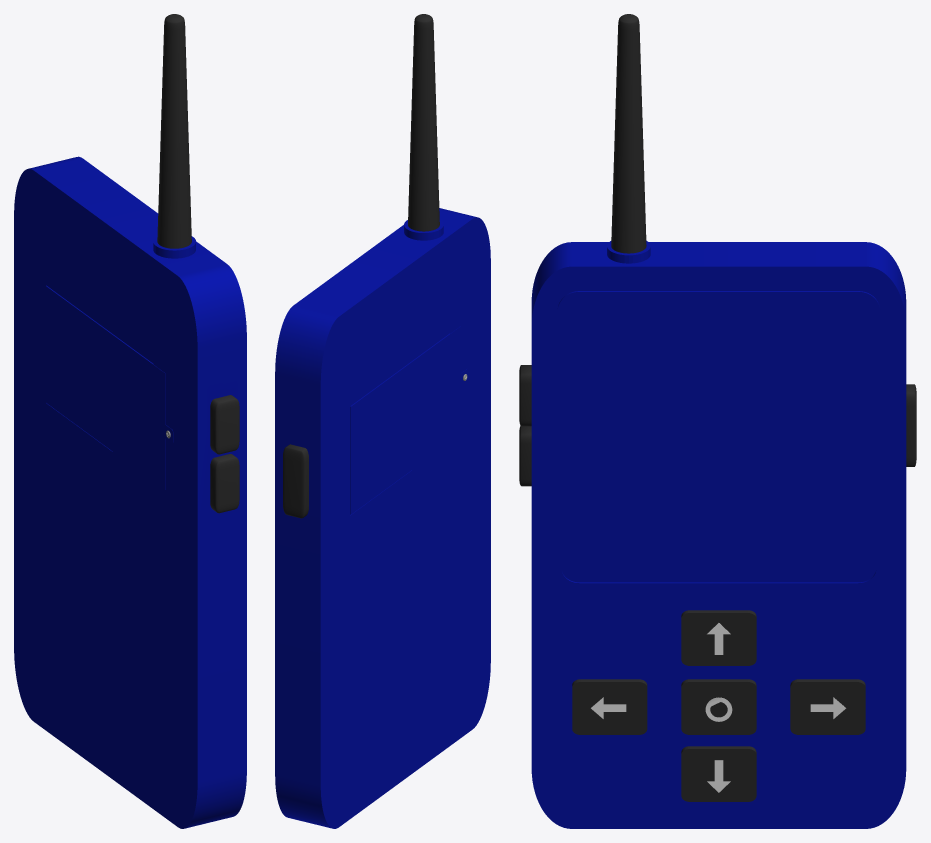
The model's file is AdvancedPortableTeleporter.fbx.
3 renders of one model, left to right at view 1: azimuth 30°, elevation 25°; view 2: azimuth 150°, elevation 25°; view 3: azimuth 270°, elevation 25°, orthographic. The views are drawn at different scales.
Parts seen in each view (by area): view 1: Tablet, Cube, Cylinder.002, VolumeUp, VolumeDown; view 2: Tablet, Cube, Cylinder.002, VolumeUp.001; view 3: Tablet, Cylinder.002, Select, RightArrow, LeftArrow, DownArrow, UpArrow, DownArrow.001, VolumeUp.001, VolumeUp, VolumeDown.
Boxes of the visible parts, <box> form: Tablet: <box>14,156,246,828</box>; Cube: <box>46,286,173,489</box>; Cylinder.002: <box>157,14,191,248</box>; VolumeUp: <box>210,395,239,454</box>; VolumeDown: <box>210,454,239,513</box>; Tablet: <box>275,208,490,828</box>; Cube: <box>350,326,468,514</box>; Cylinder.002: <box>408,14,439,231</box>; VolumeUp.001: <box>283,444,308,518</box>; Tablet: <box>531,240,906,828</box>; Cylinder.002: <box>611,14,646,253</box>; Select: <box>681,679,756,734</box>; RightArrow: <box>790,679,865,734</box>; LeftArrow: <box>572,679,647,734</box>; DownArrow: <box>681,746,756,801</box>; UpArrow: <box>681,610,756,665</box>; DownArrow.001: <box>591,623,845,792</box>; VolumeUp.001: <box>906,384,916,466</box>; VolumeUp: <box>519,365,531,426</box>; VolumeDown: <box>519,425,531,486</box>.
Bounding box in the file's own units: 102 × 1330 × 598.
